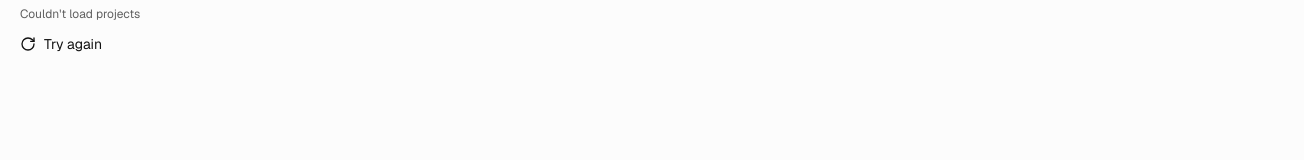
SidebarRecentProjects › shows an error with retry
The width and height of the screenshot is (1304, 160).
Click the button "Try again" at point(73, 44), box [12,28,1292,60]
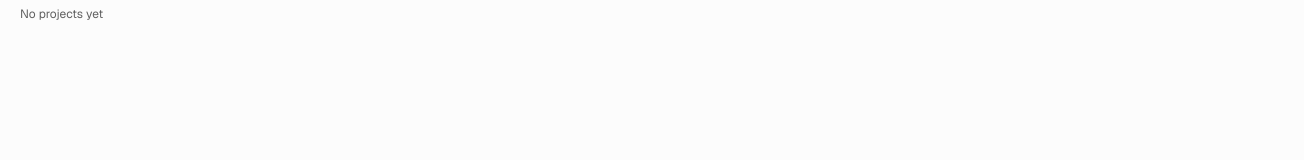
Expected: the text "No projects yet" is shown, [20,6,103,22]
